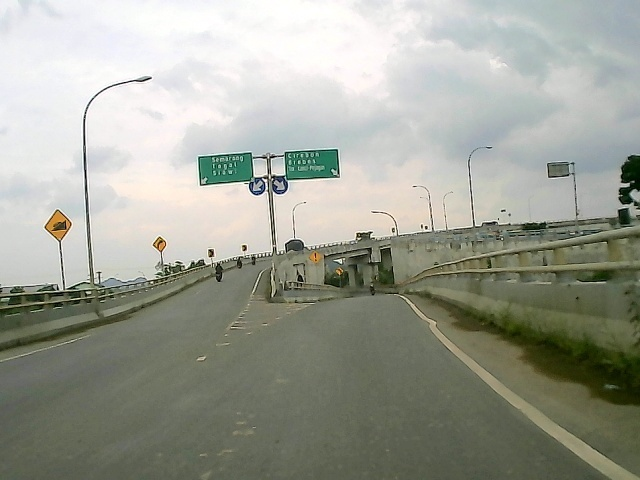Hati-hati: (309, 251, 322, 265)
Jalanan menanjak: (42, 208, 74, 243)
Tikungan ke kanan: (152, 236, 168, 252)
